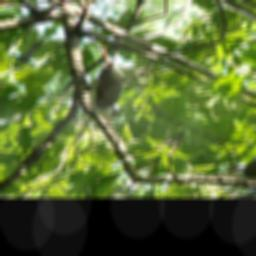Cuckoo: (48, 41, 164, 126)
